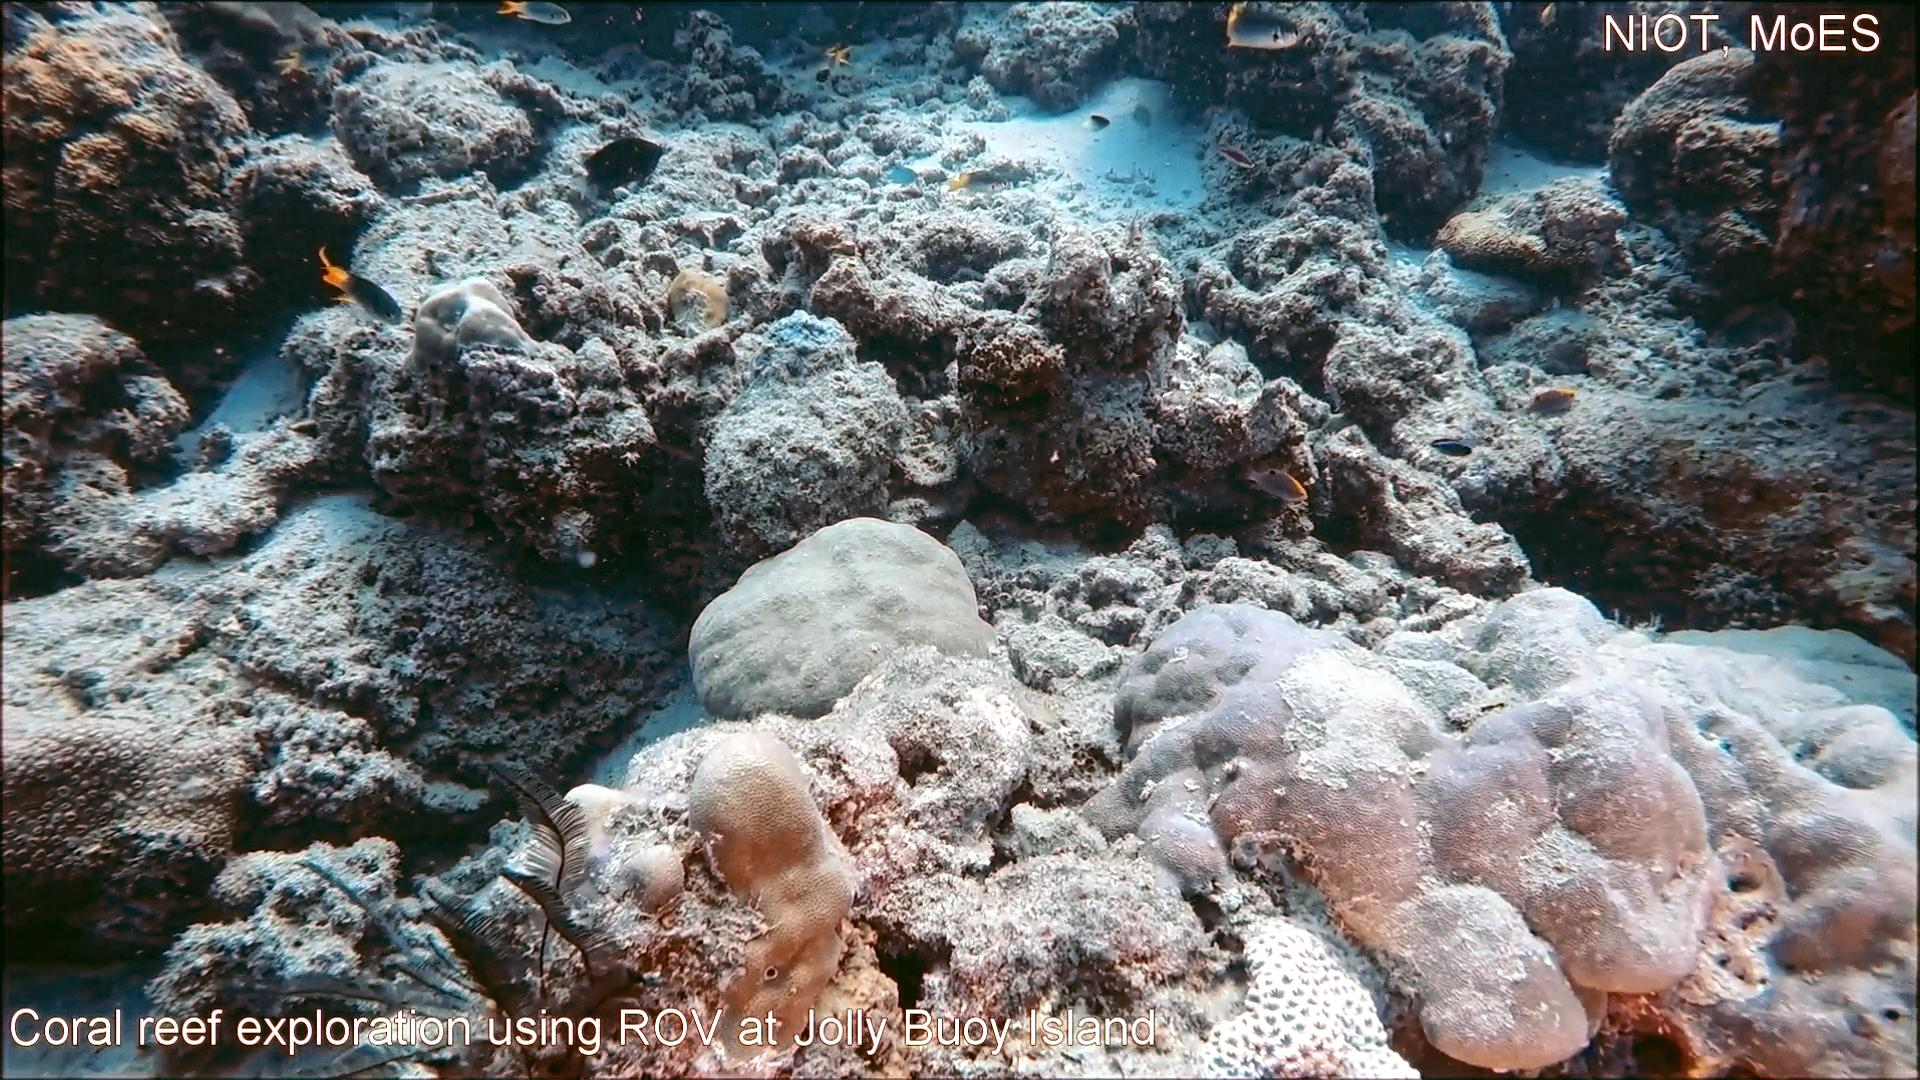Feather star-Crinoid star: (194, 741, 682, 1080)
Goniastrea-Goniastrea pectinata: (1200, 901, 1429, 1080)
Porites-Porites pukoensis: (1543, 580, 1920, 1080)
